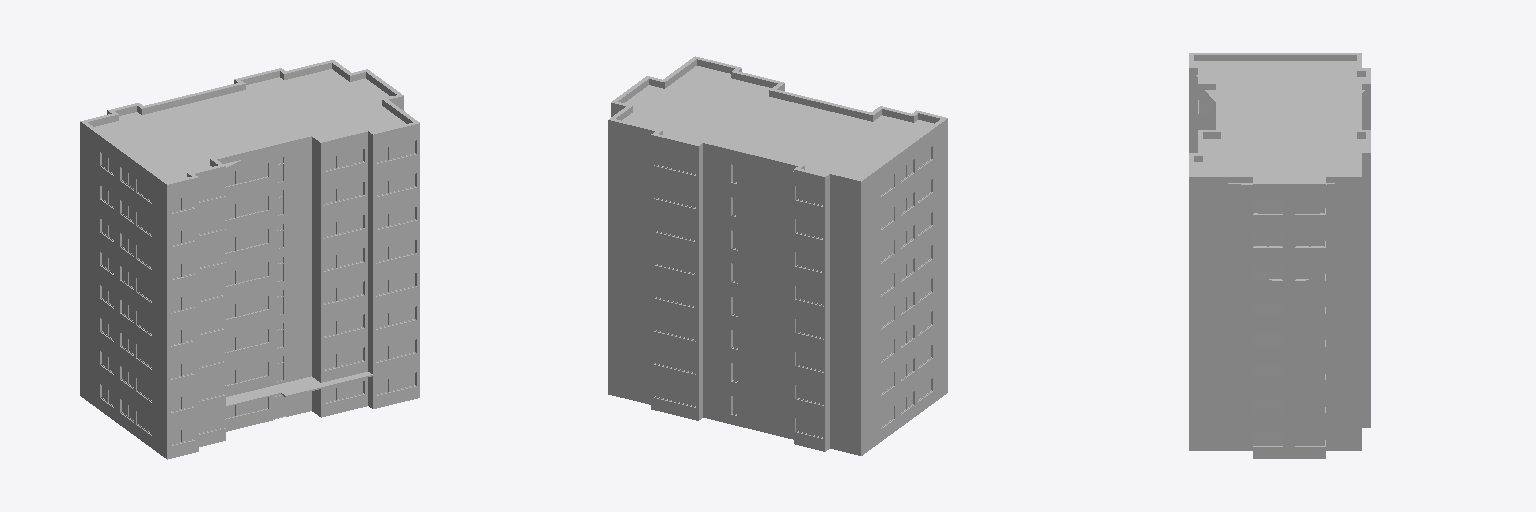
Rendered from house.obj.
3 renders of one model, left to right at view 1: azimuth 30°, elevation 25°; view 2: azimuth 150°, elevation 25°; view 3: azimuth 270°, elevation 25°, orthographic.
Visible parts, largest first — view 1: House_01; view 2: House_01; view 3: House_01.
Part boxes in pixels (bbox=[...]): House_01: bbox=[80, 60, 419, 459]; House_01: bbox=[608, 56, 947, 455]; House_01: bbox=[1189, 53, 1370, 458].
Bounding box in the file's own units: 6.8 × 6.63 × 4.